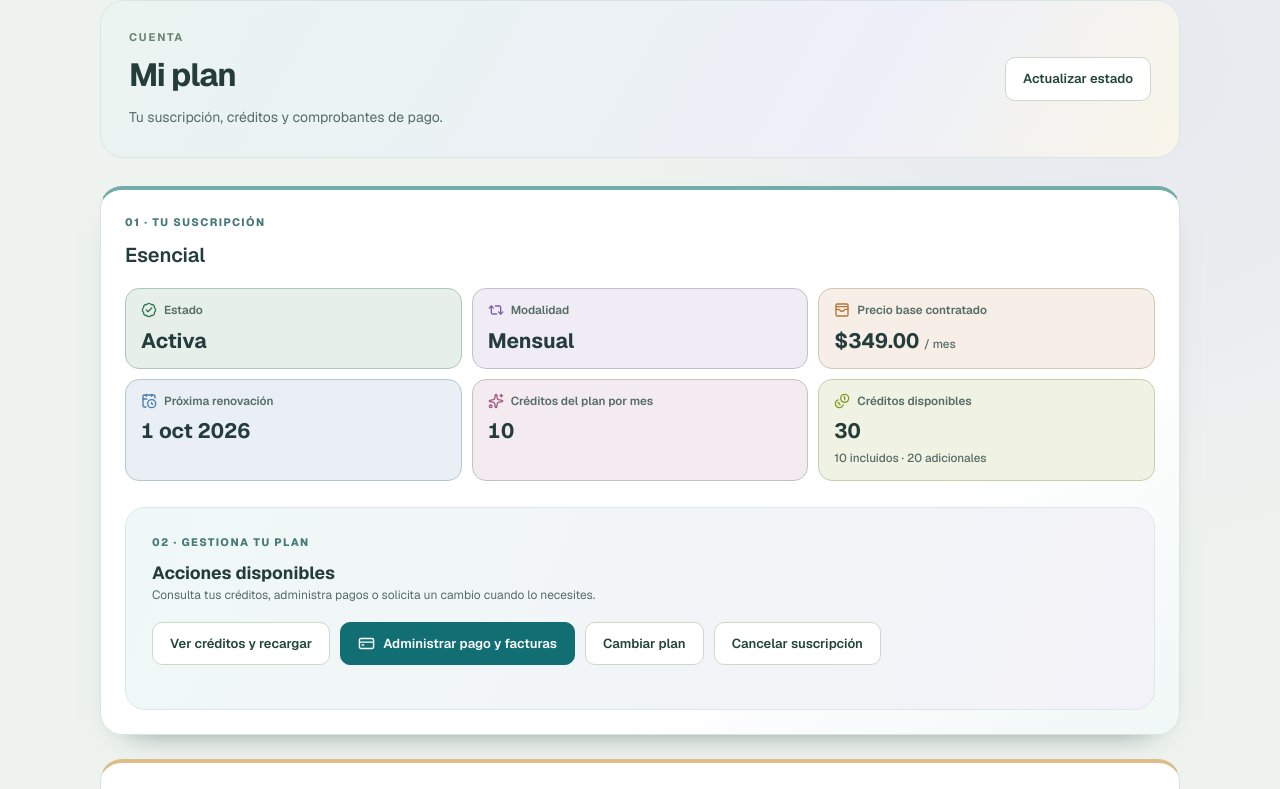
it: Mi plan presents local balances and uses an explicit cancellation confirmation
Expected: the heading "Esencial" is shown, left=125, top=242, right=205, bottom=268
Expected: the text "30" is shown, left=834, top=417, right=861, bottom=444
Click the button "Cancelar suscripción": (797, 643) left=714, top=622, right=881, bottom=665
(page scrolled)
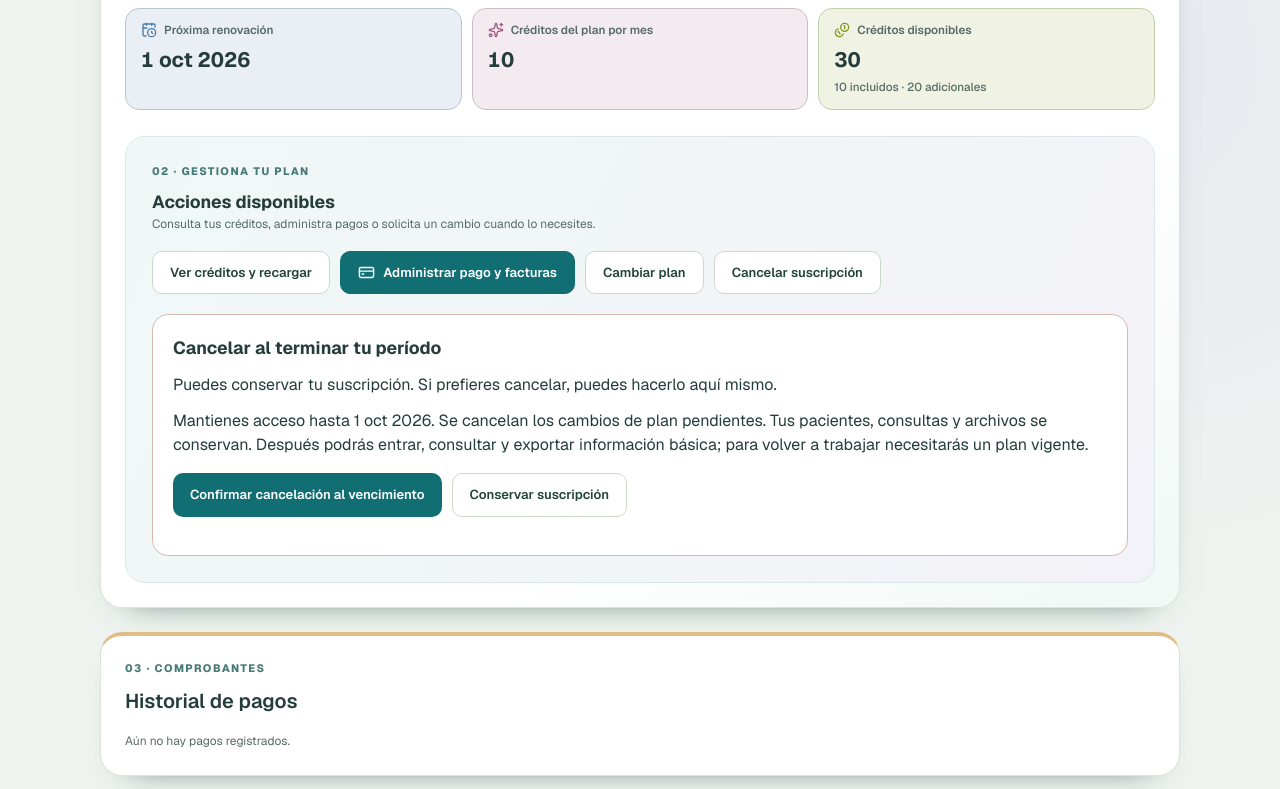
Click the button "Confirmar cancelación al vencimiento": (307, 495) left=173, top=474, right=442, bottom=517
(page scrolled)
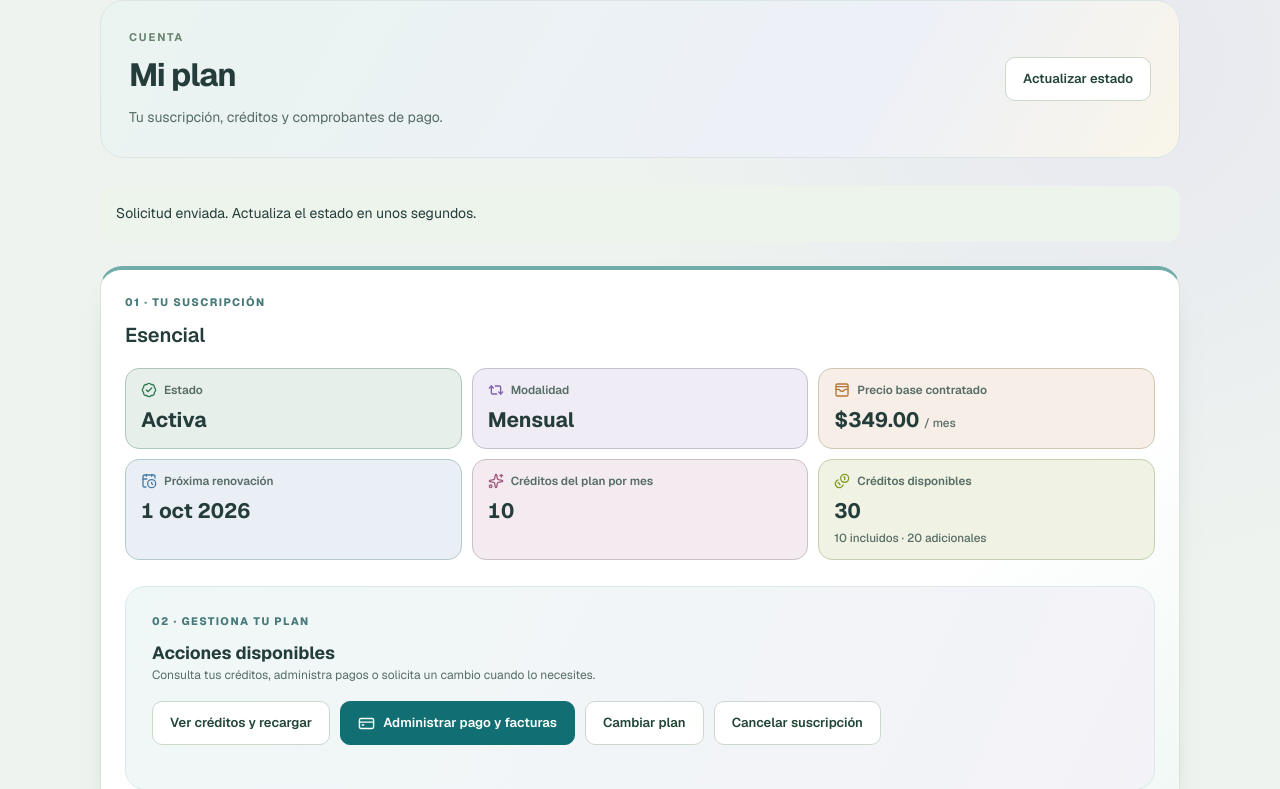
Expected: the text "Solicitud enviada. Actualiza el estado en unos segundos." is shown, left=100, top=186, right=1180, bottom=242
